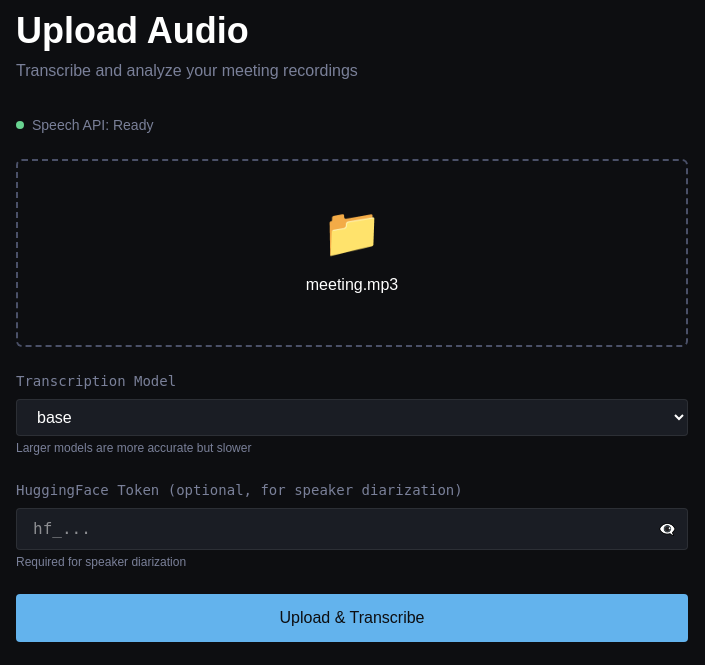
Test case: API error display › network error during upload shows user-friendly message
The image size is (705, 665).
Earlier steps of the test are not shown.
Expected: the text "Speech API: Ready" is shown, x1=32 y1=115 x2=153 y2=135
Click the button with test id "upload-btn".
click(352, 618)  # box x1=16 y1=594 x2=688 y2=642
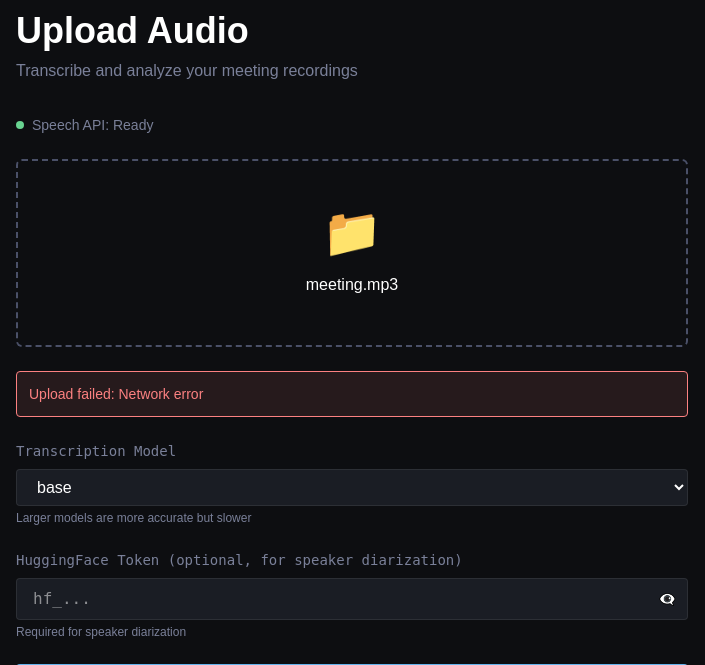
Expected: the message with test id "upload-error" shows "Network error", x1=29 y1=386 x2=203 y2=402
